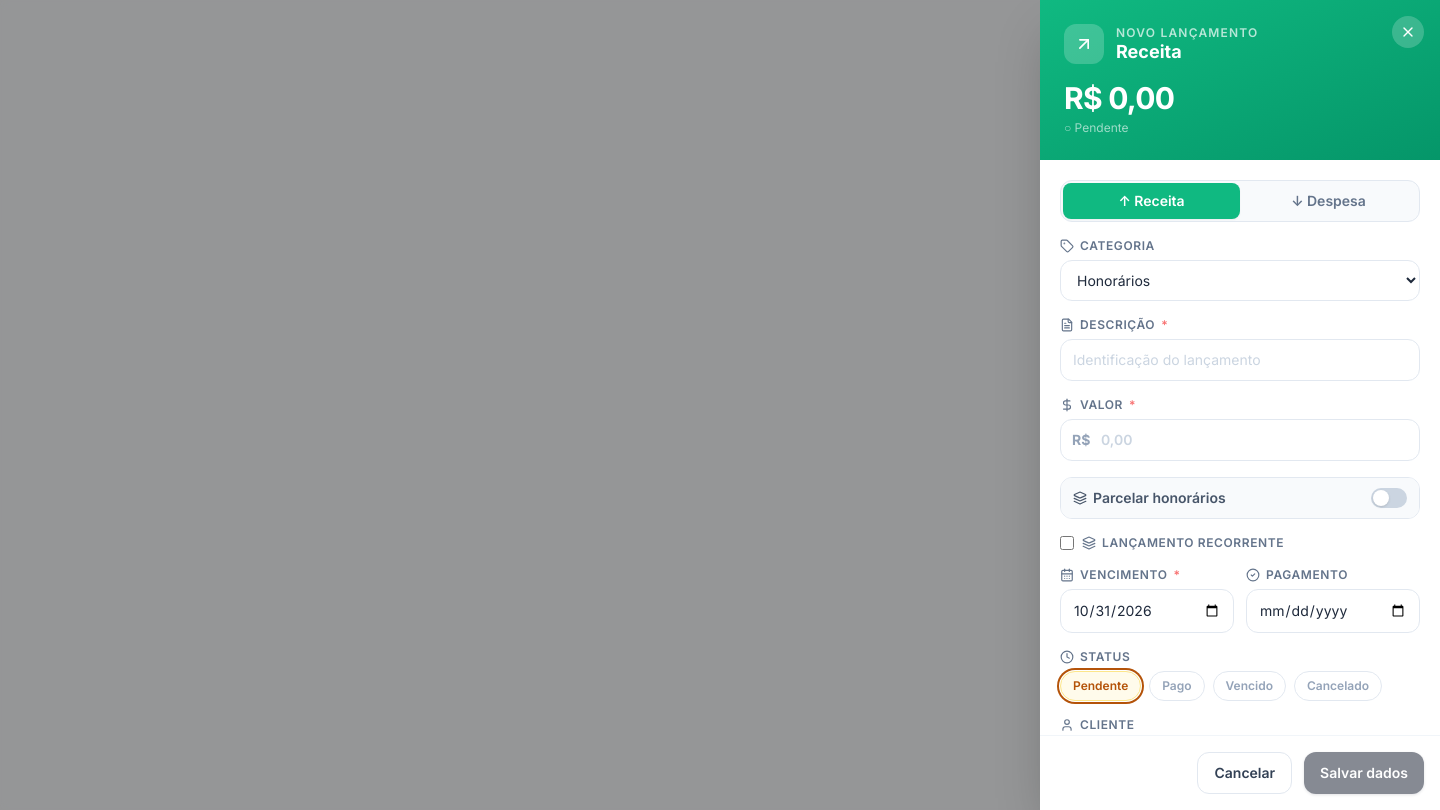
Test: FinancialDrawer — toggle Receita / Despesa › troca para Despesa ao clicar no botão de Despesa
Step 1. Click the button with test id "type-payable" → (1328, 201), box [1240,183,1417,219]
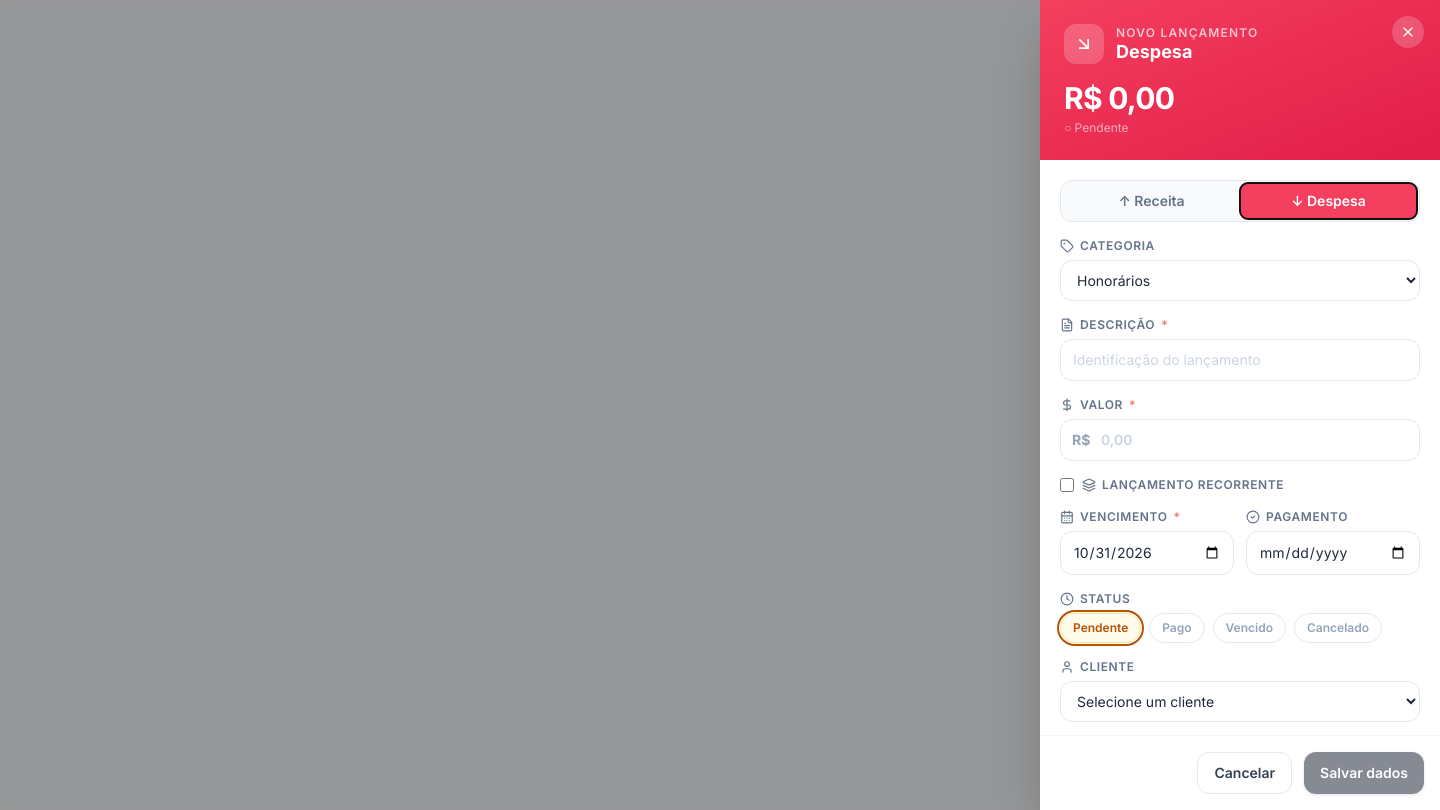
Check: the text "Despesa" is shown, box [1116,41,1192,62]
